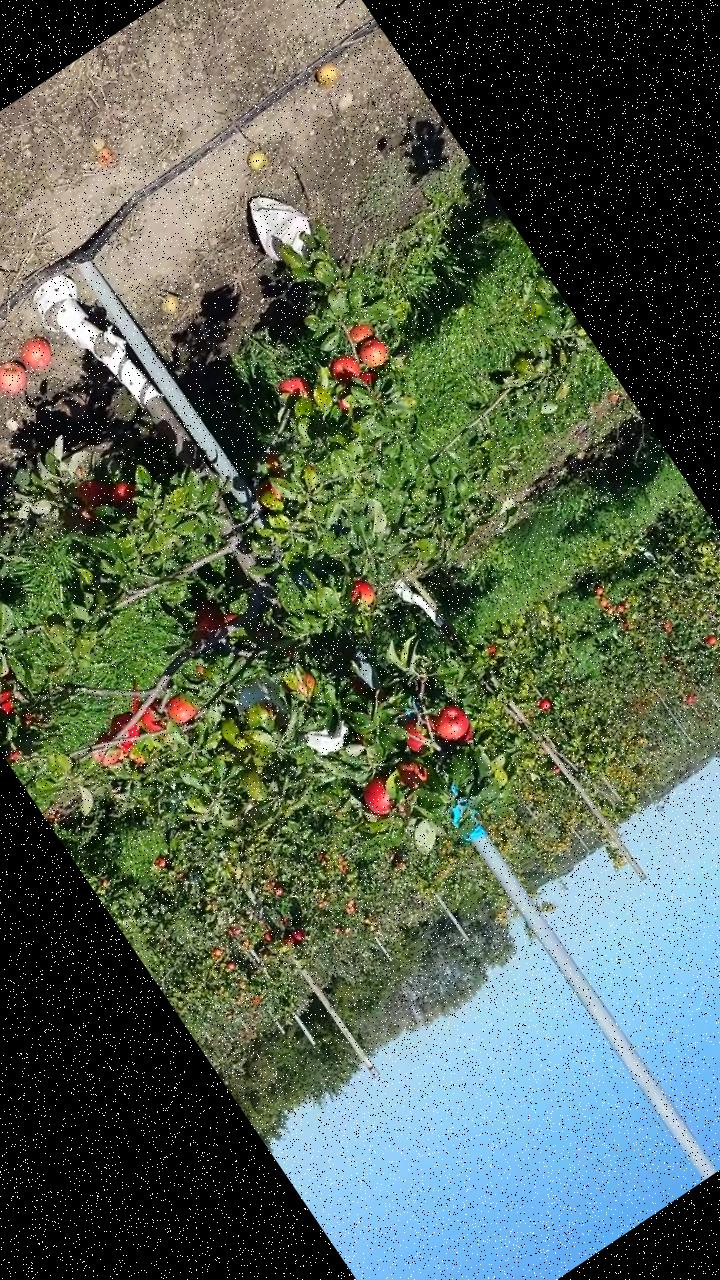Apple: (357, 767, 410, 822), (105, 705, 155, 755), (398, 710, 445, 756), (428, 700, 474, 746), (390, 750, 435, 796), (160, 684, 206, 729), (274, 367, 318, 411), (352, 332, 397, 374), (341, 574, 383, 617), (188, 602, 231, 644), (71, 472, 114, 514), (285, 667, 328, 708), (135, 698, 177, 739), (326, 350, 367, 390), (102, 474, 143, 513), (85, 730, 124, 770), (344, 316, 379, 349), (70, 502, 102, 534), (0, 683, 26, 722), (255, 480, 283, 509), (450, 724, 479, 750), (357, 364, 384, 389), (266, 449, 290, 475), (131, 750, 150, 770), (220, 608, 240, 626), (336, 396, 351, 414)
